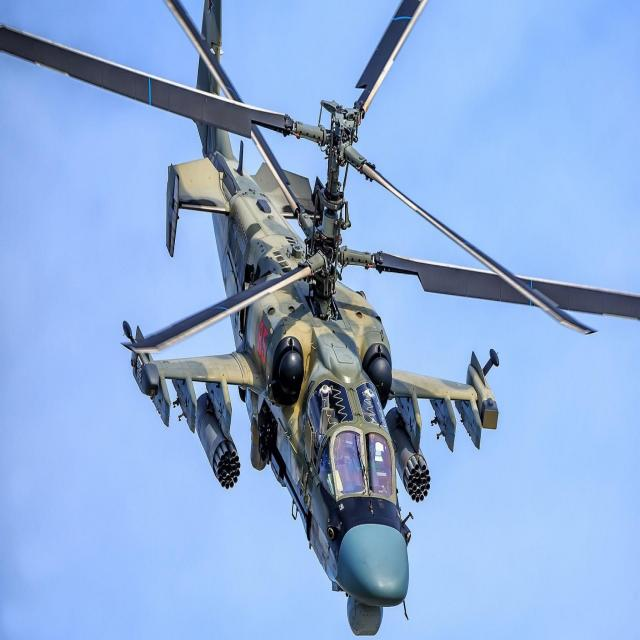MIL_HELO: (0, 0, 631, 638)
